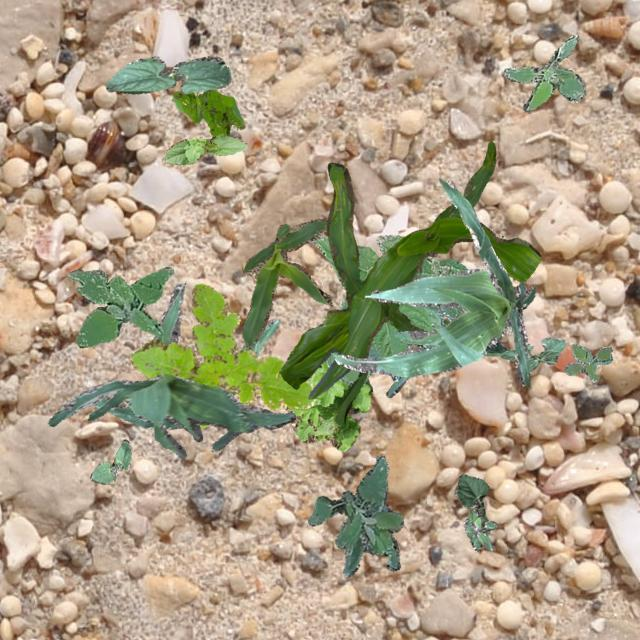crop: (278, 140, 540, 424), (333, 178, 535, 386), (93, 282, 279, 428), (312, 233, 466, 384), (48, 372, 294, 458), (242, 218, 331, 348), (386, 318, 508, 396), (104, 54, 230, 92), (453, 472, 488, 550), (160, 134, 247, 164), (500, 336, 564, 369), (89, 438, 130, 484)
weed: (128, 282, 314, 428), (306, 454, 402, 576), (66, 266, 172, 346), (288, 358, 372, 449), (502, 34, 584, 110), (172, 88, 244, 136), (562, 342, 610, 380), (466, 508, 496, 550)
